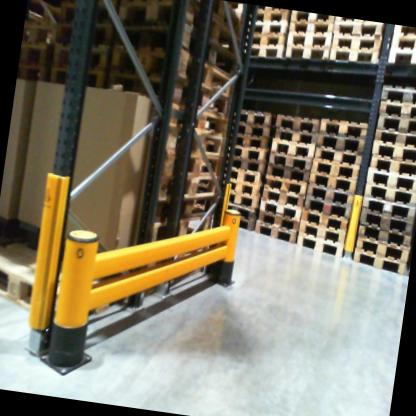pallet: (0, 214, 131, 345), (94, 36, 238, 99), (112, 0, 251, 62), (136, 233, 210, 301), (120, 0, 254, 36), (147, 77, 241, 120), (143, 204, 215, 255), (153, 96, 239, 138), (146, 190, 219, 237), (154, 146, 230, 189), (155, 169, 221, 210), (160, 125, 231, 163), (50, 36, 115, 75), (50, 14, 120, 49), (51, 0, 123, 34), (44, 61, 113, 96), (355, 221, 414, 250), (350, 246, 409, 274), (284, 22, 338, 52), (359, 206, 414, 235), (354, 234, 412, 261), (300, 193, 352, 222), (361, 195, 416, 222), (296, 218, 349, 246), (332, 27, 385, 54), (365, 164, 416, 192), (22, 10, 56, 50), (305, 167, 357, 193), (286, 15, 336, 42), (330, 16, 386, 40), (363, 183, 416, 208), (326, 43, 379, 68), (293, 234, 347, 258), (308, 154, 359, 179), (300, 207, 351, 232), (317, 113, 372, 136), (231, 101, 276, 129), (249, 220, 298, 245), (255, 196, 304, 221), (305, 181, 356, 205), (316, 129, 369, 152), (254, 208, 302, 232), (262, 173, 309, 197), (369, 153, 416, 177), (312, 146, 363, 168), (260, 185, 306, 209), (273, 110, 321, 133), (227, 138, 270, 163), (284, 38, 330, 61), (223, 149, 267, 173), (262, 163, 311, 184), (245, 38, 286, 63), (265, 151, 313, 172), (21, 40, 54, 70), (375, 110, 416, 134), (230, 129, 274, 151), (229, 119, 275, 140), (371, 139, 416, 160), (222, 185, 262, 208), (221, 164, 264, 185), (271, 126, 317, 145), (288, 10, 334, 29), (385, 40, 416, 68), (379, 80, 416, 103), (254, 5, 294, 26), (272, 139, 314, 158), (373, 128, 416, 146), (250, 28, 288, 48), (378, 97, 416, 116), (252, 15, 290, 34), (19, 65, 50, 86), (225, 178, 263, 195), (390, 28, 416, 52), (227, 202, 259, 221), (230, 215, 254, 235), (391, 25, 416, 38)
